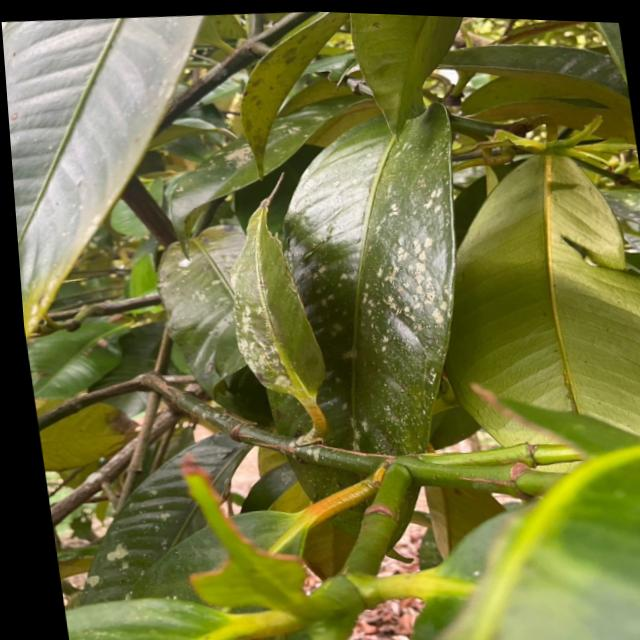Leaf Spot: (272, 145, 509, 380), (212, 261, 314, 386)
